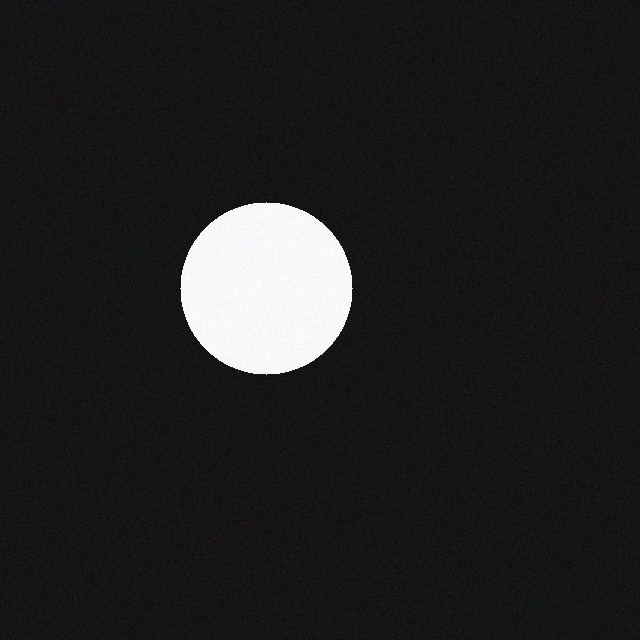circle: (195, 202, 367, 374)
